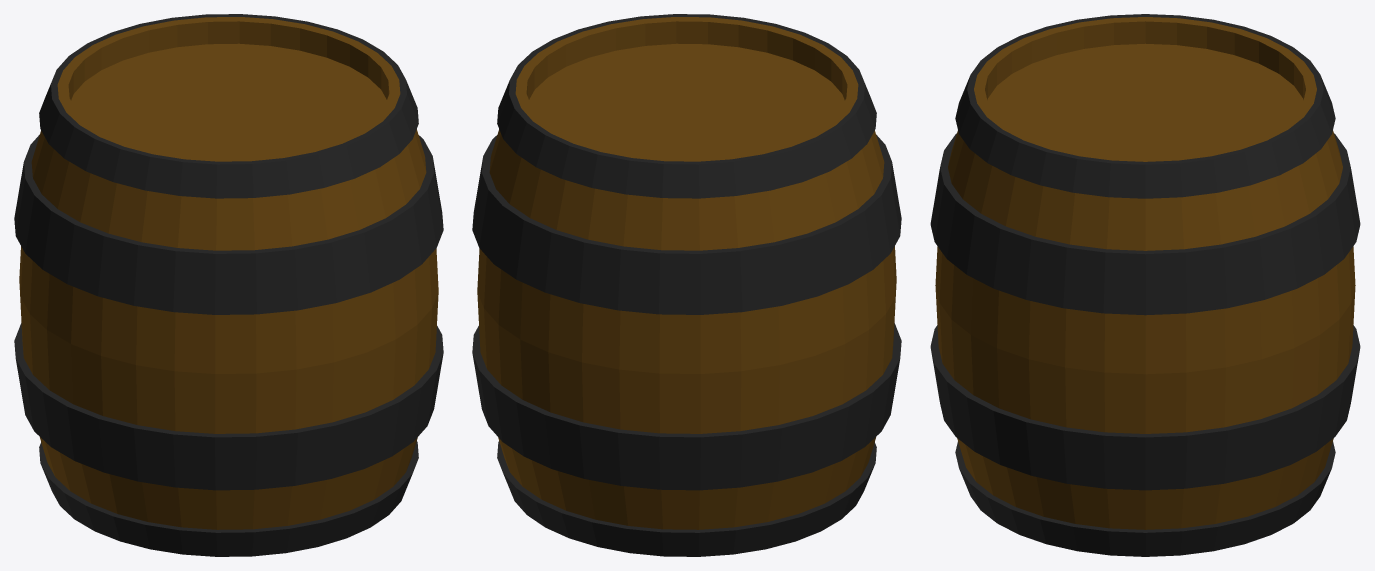
The model's file is barrelcolor.fbx.
3 views of the same model, side by side, from view 1: azimuth 30°, elevation 25°; view 2: azimuth 150°, elevation 25°; view 3: azimuth 270°, elevation 25° (orthographic).
Visible parts, largest first — view 1: Cylinder; view 2: Cylinder; view 3: Cylinder.
Part boxes in pixels (left/top/right/bottom): Cylinder: left=14, top=14, right=443, bottom=556; Cylinder: left=472, top=14, right=901, bottom=556; Cylinder: left=930, top=14, right=1360, bottom=556.
Size of the model in its own units: 251 by 252 by 251.
